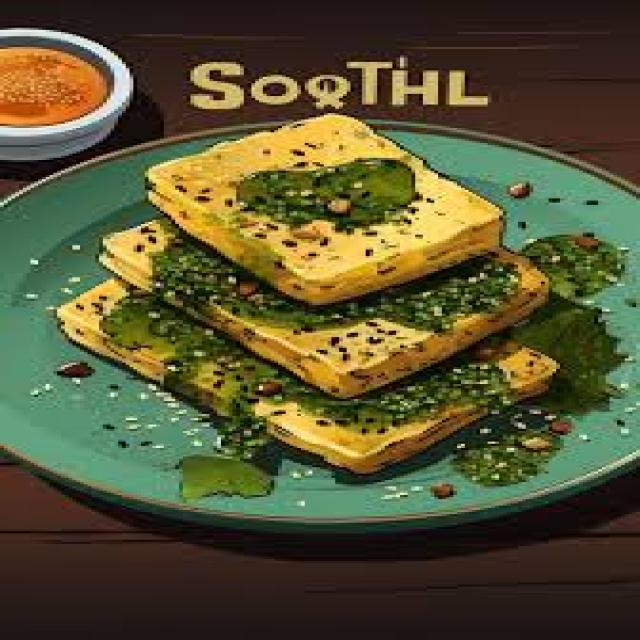DHOKLA: (99, 218, 545, 397), (145, 115, 499, 299)
